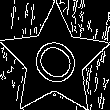O_SE: (23, 28, 87, 93)
